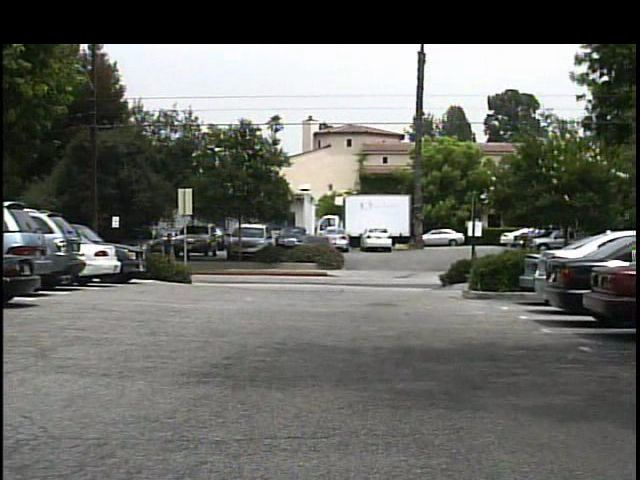person: (158, 229, 181, 277)
